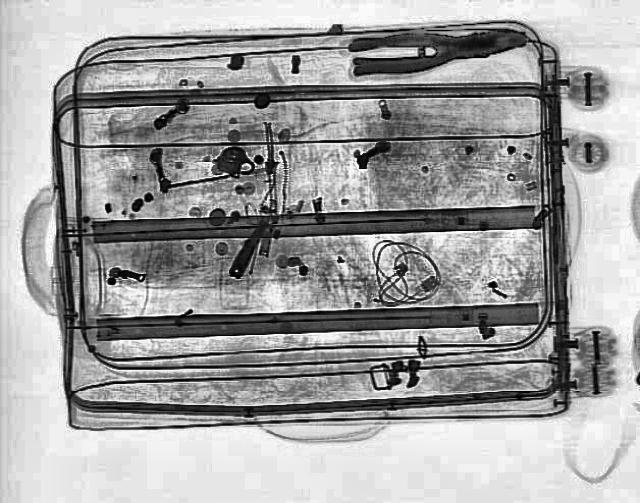Pliers: (348, 17, 530, 77)
